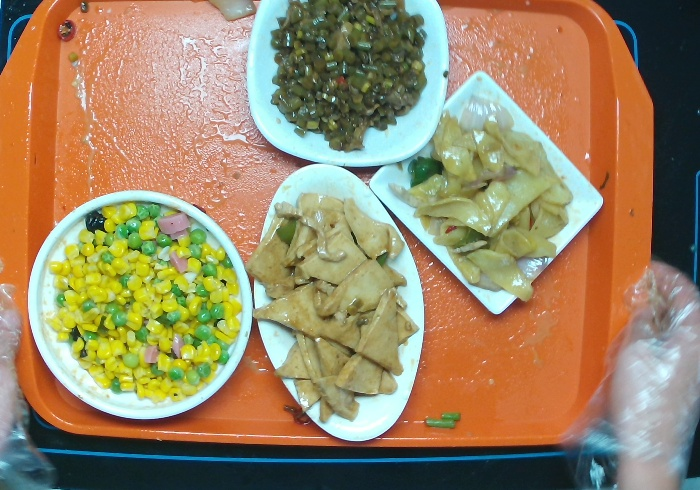HZYJPL-Si_Fang_Die: (364, 65, 608, 321)
HZYJPL-Si_Fang_Yuan_Die: (237, 1, 456, 172)
HZYJPL-Xiao_Yu_Die: (242, 153, 431, 451)
HZYJPL-Xiao_Yuan_Die: (26, 185, 266, 427)
